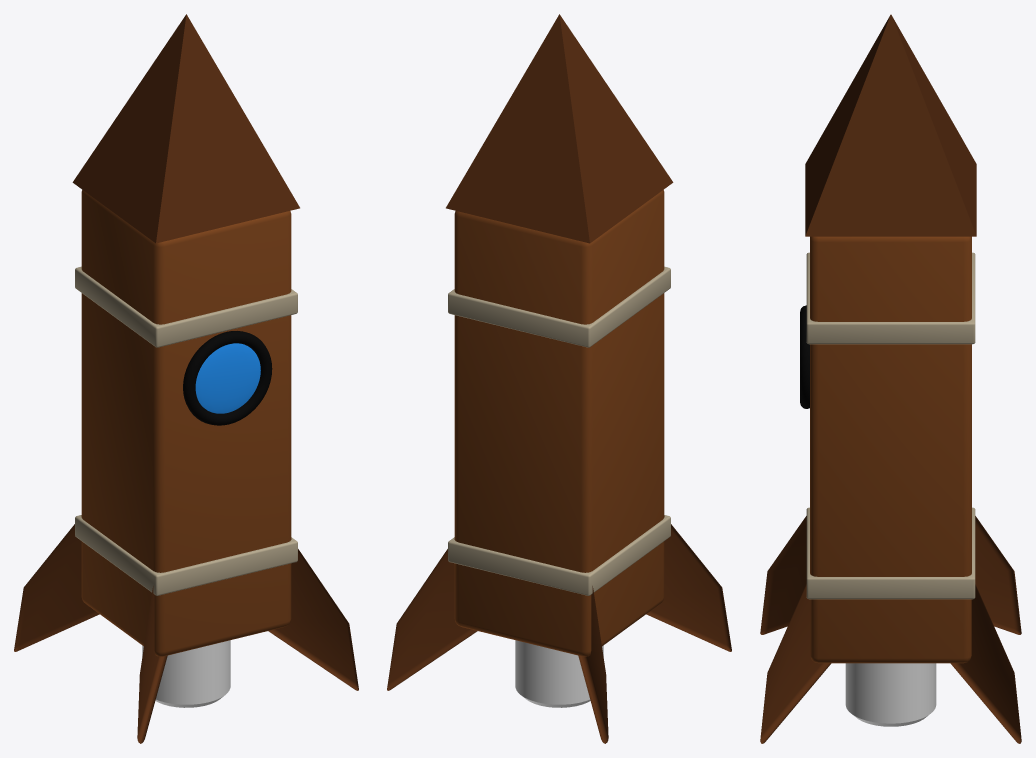
The model's file is Rocket_04_Cardboard.obj.
The picture shows the model from 3 angles, left to right: view 1: azimuth 30°, elevation 25°; view 2: azimuth 150°, elevation 25°; view 3: azimuth 270°, elevation 25°; orthographic projection. The views are drawn at different scales.
Visible parts, largest first — view 1: R04_Body, R04_Roof, R04_CardFin_4, R04_CardFin_2, R04_Tape, R04_Tape_2, R04_Nozzle, R04_DrawnWindow, R04_DrawnFrame, R04_CardFin_3; view 2: R04_Body, R04_Roof, R04_CardFin, R04_CardFin_3, R04_Tape, R04_Tape_2, R04_Nozzle, R04_CardFin_2; view 3: R04_Body, R04_Roof, R04_Nozzle, R04_Tape_2, R04_Tape, R04_CardFin, R04_CardFin_4, R04_CardFin_2, R04_CardFin_3, R04_DrawnFrame.
Part boxes in pixels (x1,y1,x2,y2): R04_Body: (81,190,291,656); R04_Roof: (72,14,299,243); R04_CardFin_4: (268,539,358,690); R04_CardFin_2: (14,524,99,651); R04_Tape: (75,515,297,595); R04_Tape_2: (75,266,297,347); R04_Nozzle: (142,640,230,707); R04_DrawnWindow: (195,343,260,413); R04_DrawnFrame: (183,331,272,425); R04_CardFin_3: (137,586,167,743); R04_Body: (454,190,664,656); R04_Roof: (446,14,673,243); R04_CardFin: (387,539,477,690); R04_CardFin_3: (646,516,731,651); R04_Tape: (448,515,670,595); R04_Tape_2: (448,266,670,347); R04_Nozzle: (515,640,603,707); R04_CardFin_2: (578,586,608,743); R04_Body: (810,236,971,663); R04_Roof: (805,14,976,236); R04_Nozzle: (845,663,936,726); R04_Tape_2: (806,252,975,344); R04_Tape: (806,507,975,599); R04_CardFin: (950,584,1021,743); R04_CardFin_4: (760,584,831,743); R04_CardFin_2: (975,516,1021,634); R04_CardFin_3: (760,516,806,634); R04_DrawnFrame: (800,305,809,408).
Size of the model in its own units: 2.41 by 7.1 by 2.41.
